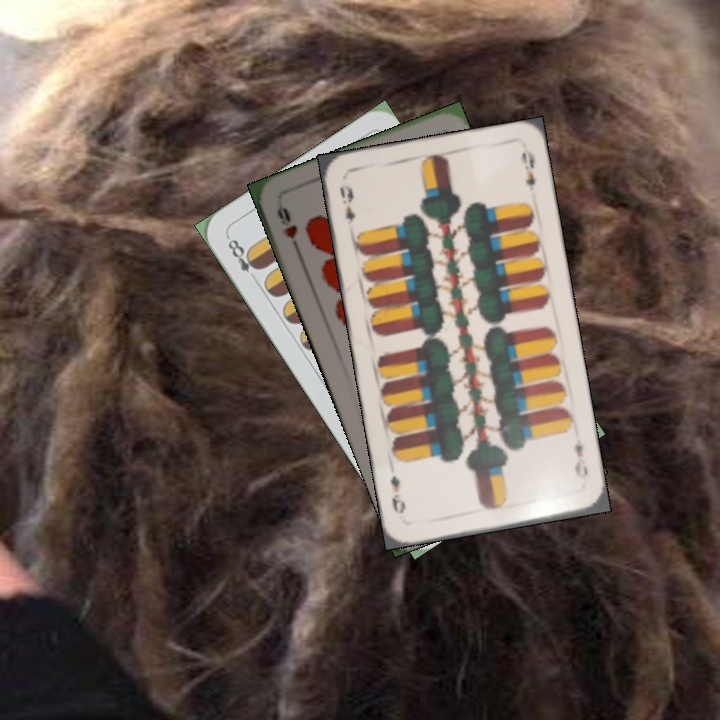E8: (223, 233, 264, 276)
E9: (335, 179, 358, 227), (570, 435, 591, 481)
H9: (273, 199, 303, 256)
